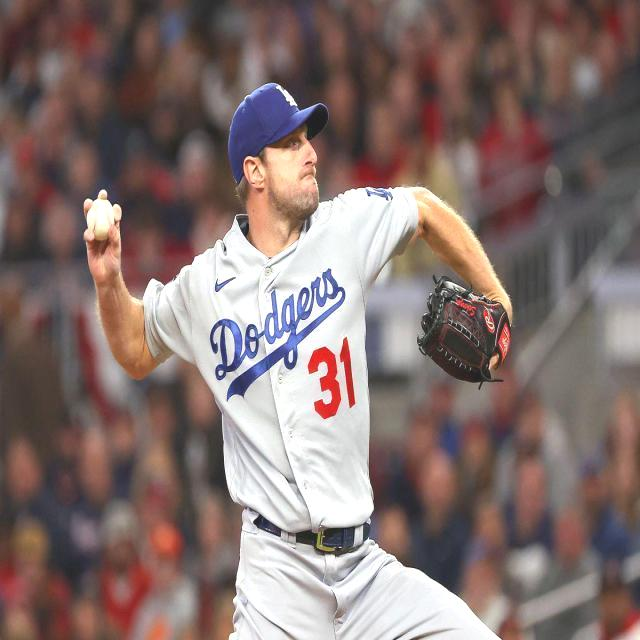ball: (82, 200, 120, 240)
